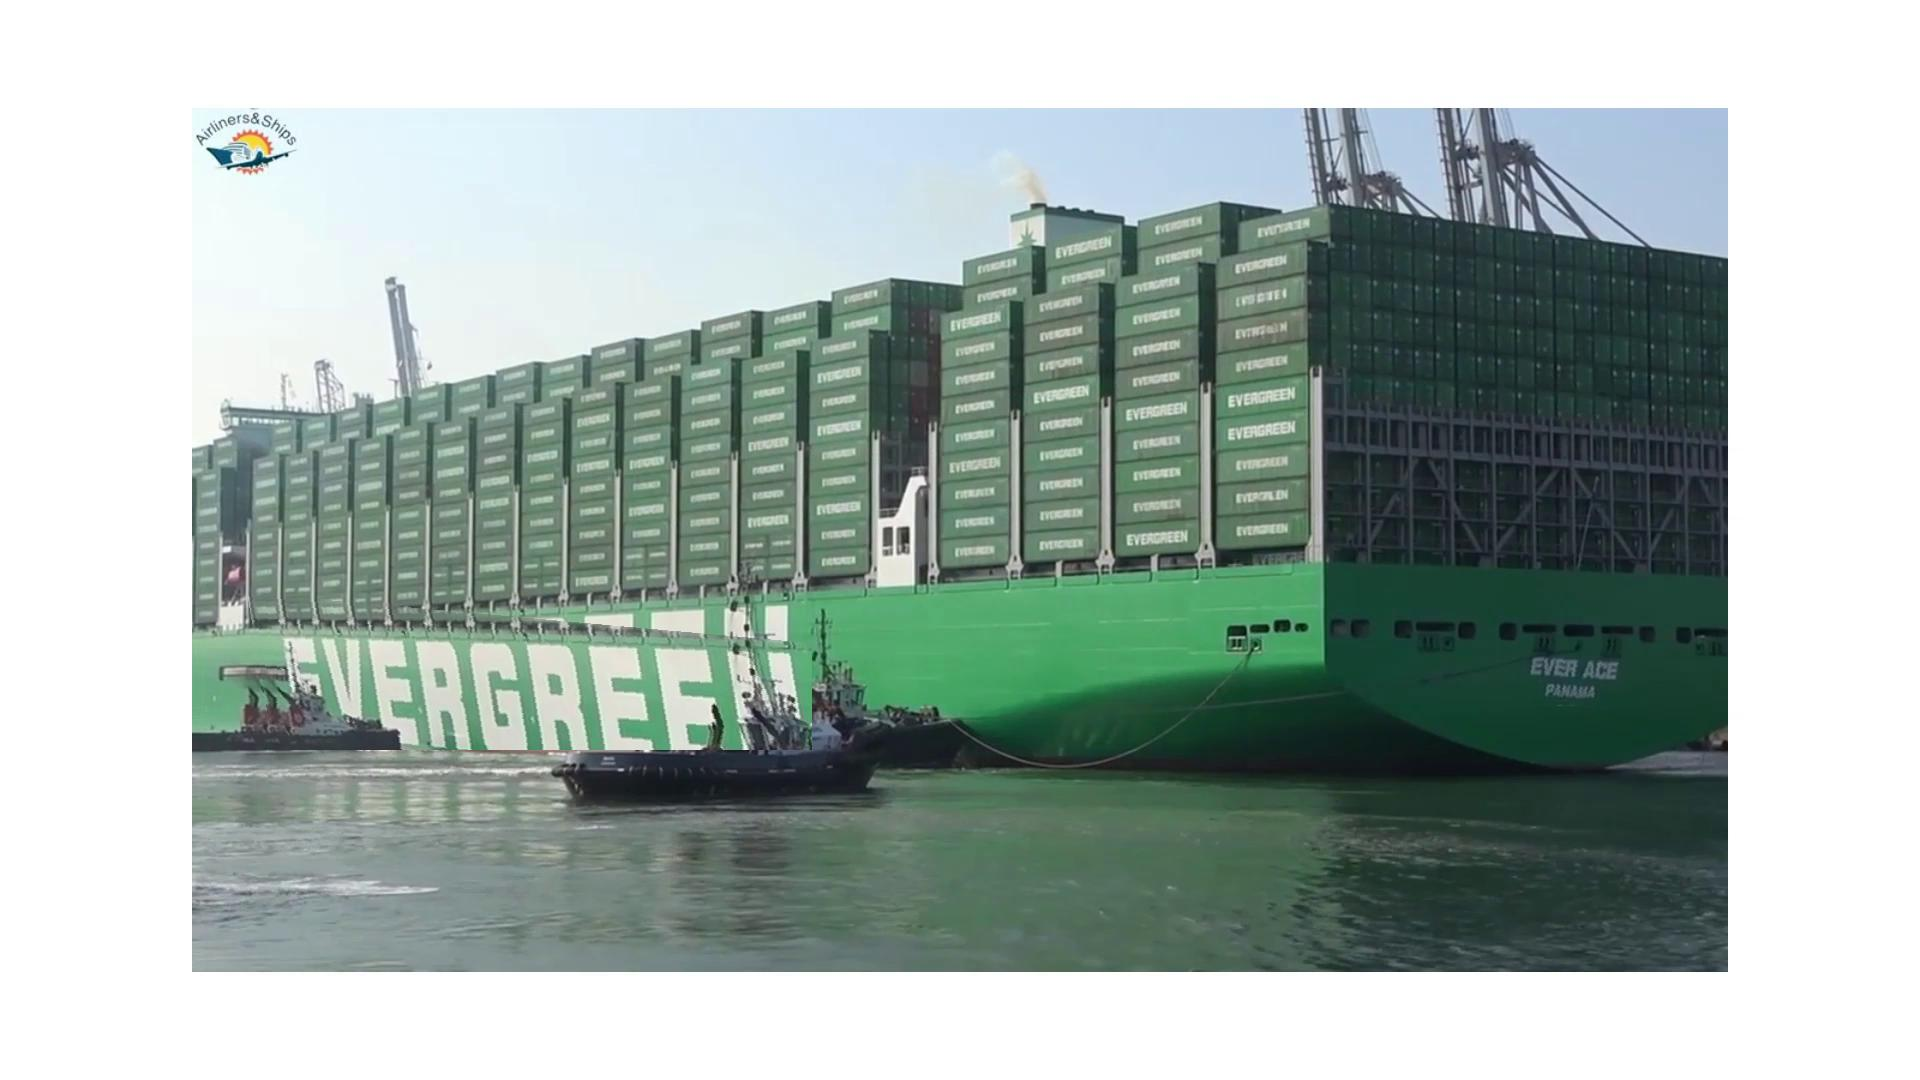OCR: (247, 593, 812, 750), (1519, 640, 1639, 705)
